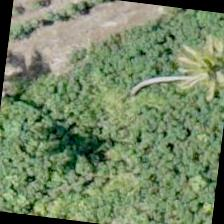Kelapa_Sawit: (158, 18, 223, 117)
